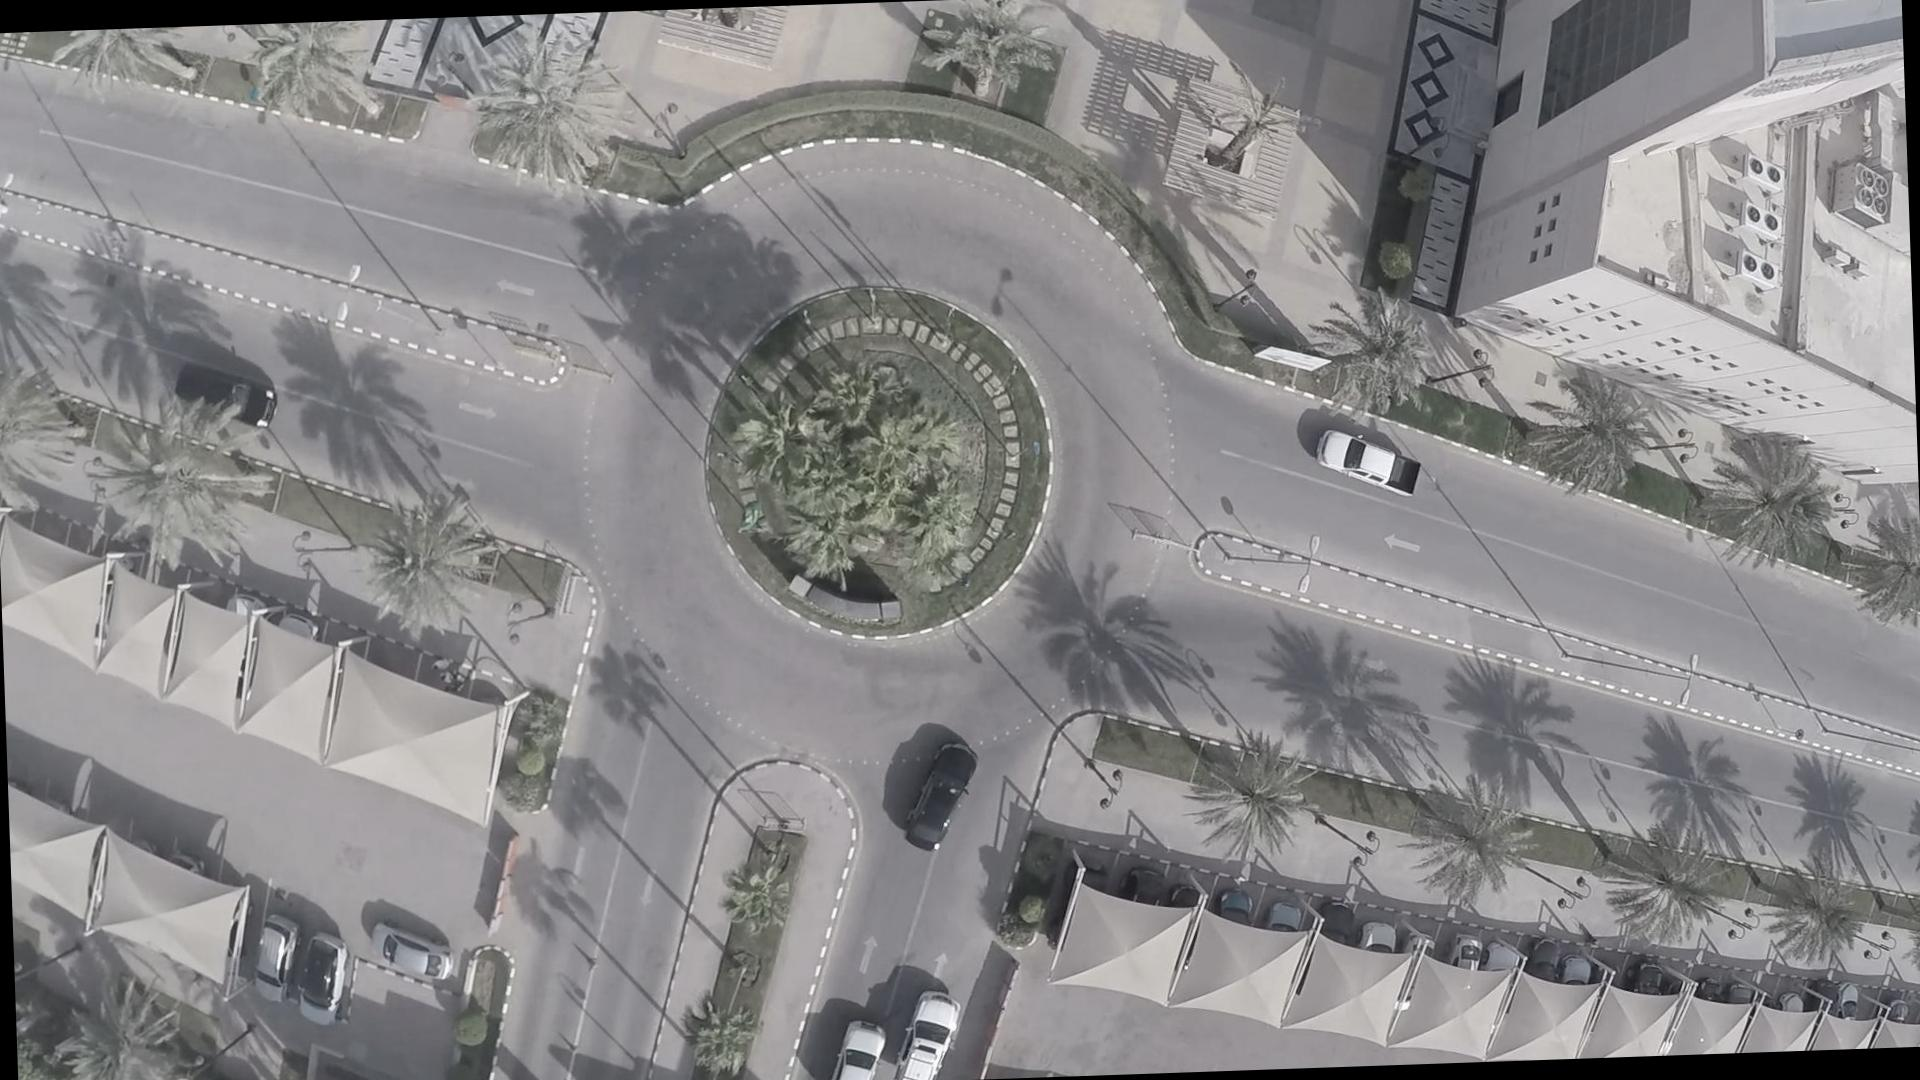vehicle: (903, 734, 992, 865), (1286, 419, 1446, 490), (176, 360, 282, 436), (911, 974, 982, 1079), (842, 1001, 890, 1079)
